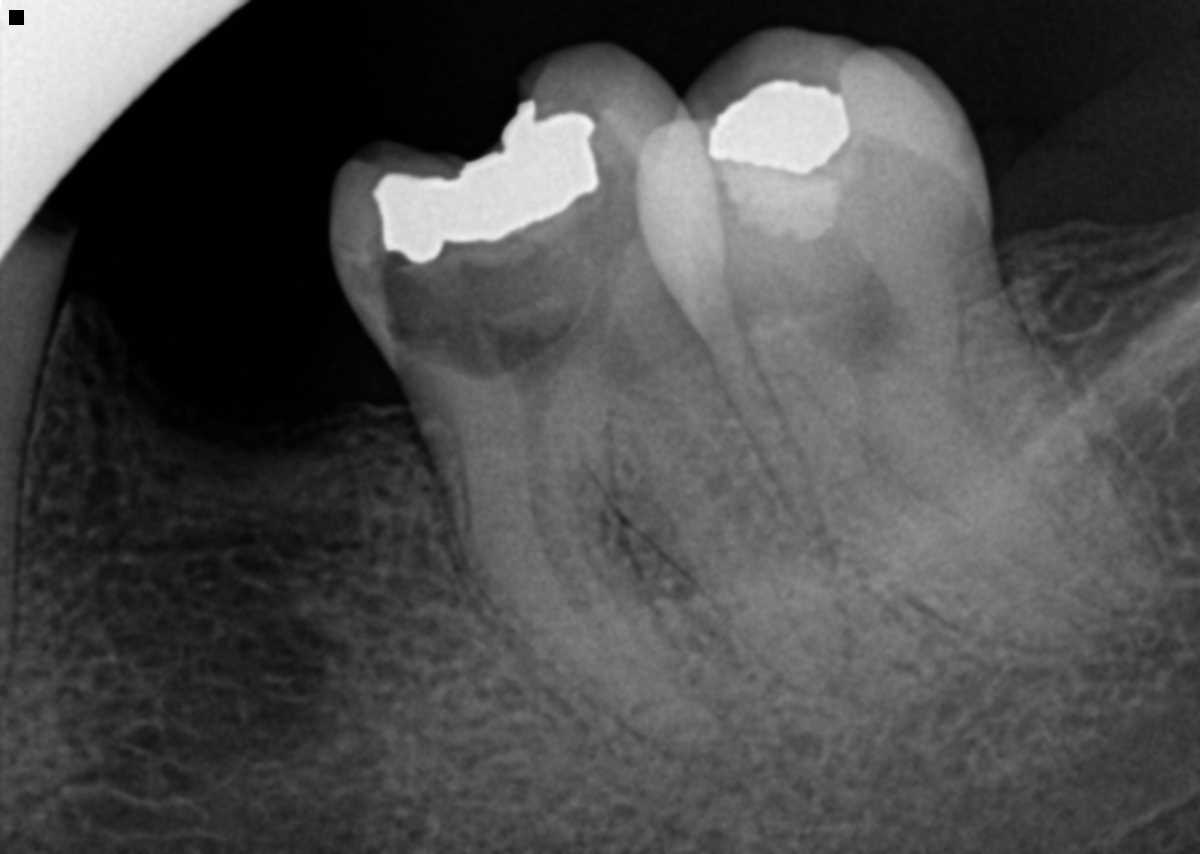Distal Canal: (622, 380, 771, 562)
Distal Root: (845, 268, 1171, 605), (571, 318, 847, 695)
Main Root: (0, 333, 43, 692)
Mesial Canal: (519, 415, 626, 660)
Mesial Root: (448, 408, 728, 756), (731, 362, 1076, 644)
decay: (385, 127, 654, 370)
